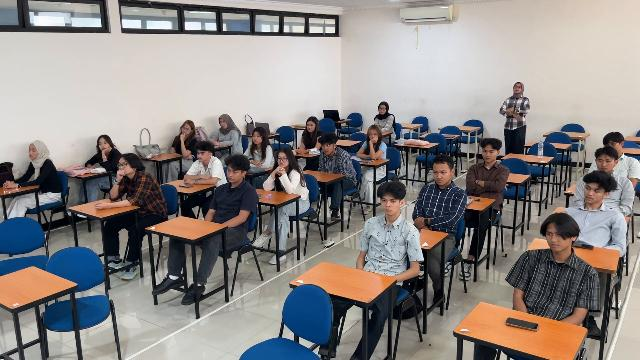fokus: (546, 228, 566, 250), (380, 196, 398, 215), (584, 183, 600, 204), (596, 155, 613, 172), (432, 167, 448, 185), (118, 158, 132, 173), (604, 139, 620, 152), (226, 166, 238, 182), (482, 148, 494, 161), (99, 138, 110, 152), (278, 152, 288, 167), (29, 145, 39, 159), (252, 132, 263, 144), (197, 150, 207, 162), (322, 143, 332, 154), (181, 124, 190, 135), (219, 117, 228, 128), (369, 130, 377, 142), (306, 121, 314, 132)
